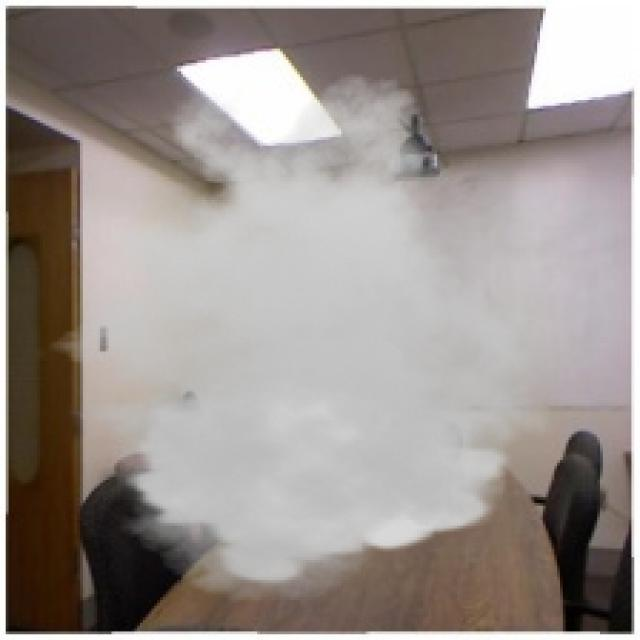smoke: (26, 71, 560, 603)
